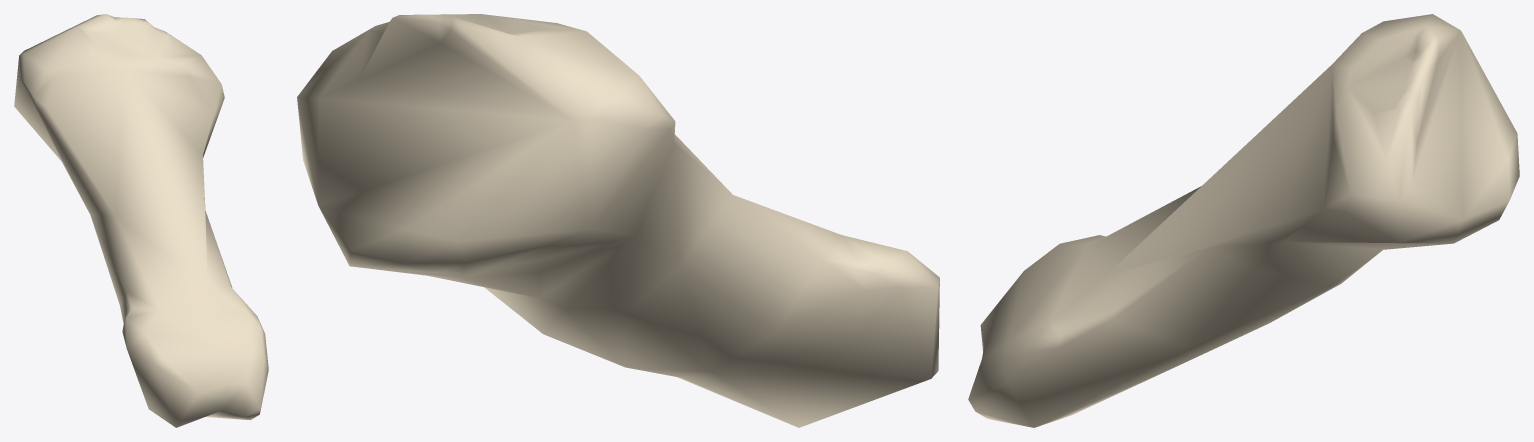
Rendered from distal-phalanx-of-second-finger-of-hand-r.glb.
3 renders of one model, left to right at view 1: azimuth 30°, elevation 25°; view 2: azimuth 150°, elevation 25°; view 3: azimuth 270°, elevation 25°, orthographic. The views are drawn at different scales.
Parts seen in each view (by area): view 1: Distal phalanx of second finger of hand.r; view 2: Distal phalanx of second finger of hand.r; view 3: Distal phalanx of second finger of hand.r.
Part boxes in pixels (bbox=[...]): Distal phalanx of second finger of hand.r: bbox=[14, 14, 268, 427]; Distal phalanx of second finger of hand.r: bbox=[297, 14, 939, 427]; Distal phalanx of second finger of hand.r: bbox=[968, 14, 1519, 427].
Bounding box in the file's own units: 0.0104 × 0.0143 × 0.0176.
